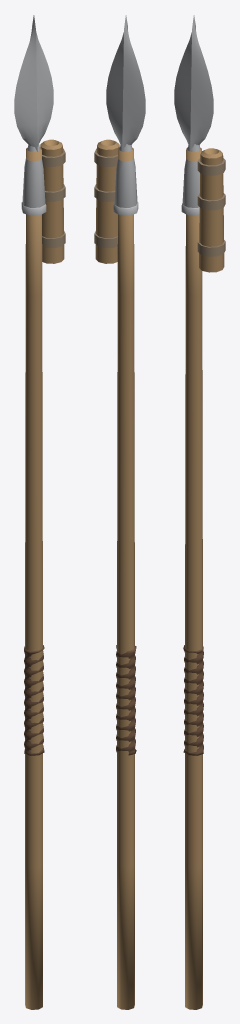
File: fire-lance.glb
The picture shows the model from 3 angles, left to right: view 1: azimuth 30°, elevation 25°; view 2: azimuth 150°, elevation 25°; view 3: azimuth 330°, elevation 25°; orthographic projection.
Parts seen in each view (by area): view 1: fire-lance; view 2: fire-lance; view 3: fire-lance.
Part boxes in pixels (<box>): fire-lance: <box>14,15,65,1009</box>; fire-lance: <box>94,15,145,1009</box>; fire-lance: <box>174,15,225,1009</box>.
Size of the model in its own units: 0.224 by 4.28 by 0.1046.
